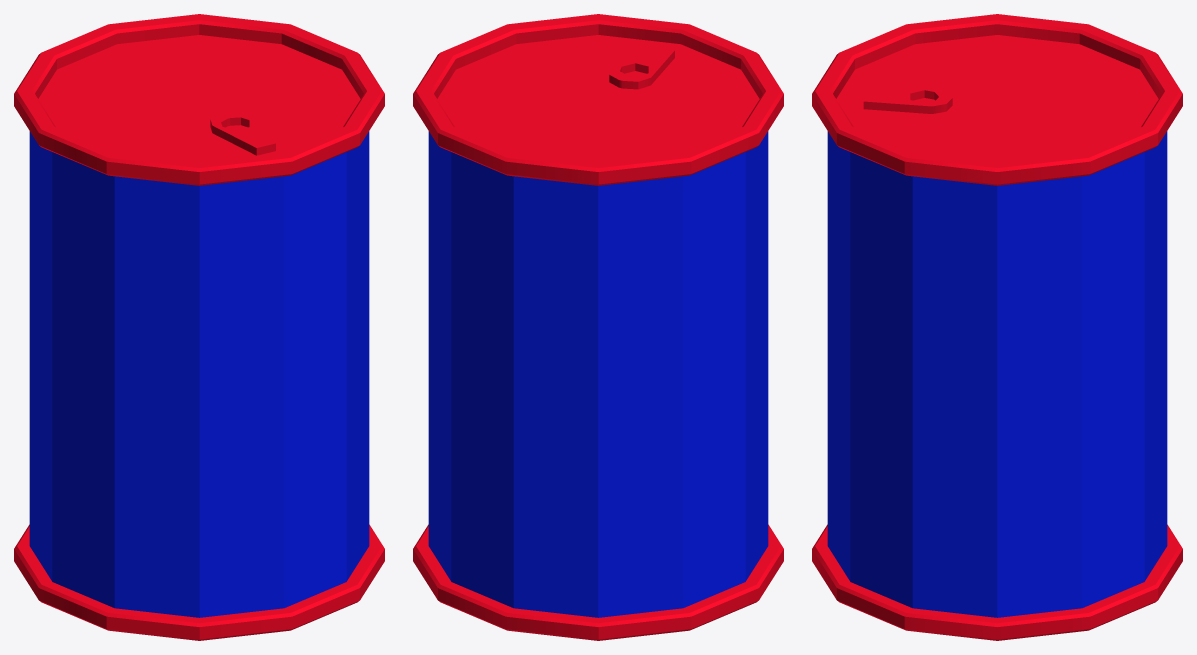
Rendered from staticMesh_prop_TinCan.fbx.
3 renders of one model, left to right at view 1: azimuth 30°, elevation 25°; view 2: azimuth 150°, elevation 25°; view 3: azimuth 270°, elevation 25°, orthographic.
Parts seen in each view (by area): view 1: TinCan; view 2: TinCan; view 3: TinCan.
Part boxes in pixels (x1=…): TinCan: x1=14, y1=14, x2=384, y2=640; TinCan: x1=413, y1=14, x2=783, y2=640; TinCan: x1=812, y1=14, x2=1182, y2=640.
Size of the model in its own units: 26.51 by 37.28 by 26.51.
